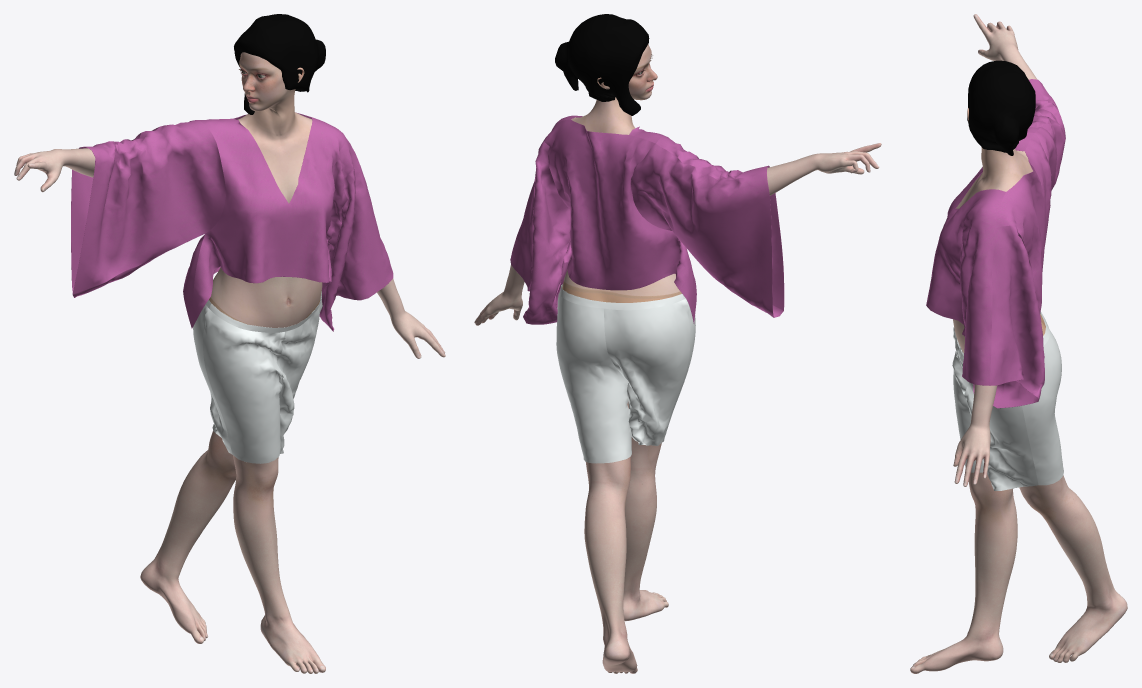
File: Custom_View_8__Dynamic.obj
3 renders of one model, left to right at view 1: azimuth 30°, elevation 25°; view 2: azimuth 150°, elevation 25°; view 3: azimuth 270°, elevation 25°, orthographic. The views are drawn at different scales.
Size of the model in its own units: 1226 by 1775 by 569.
